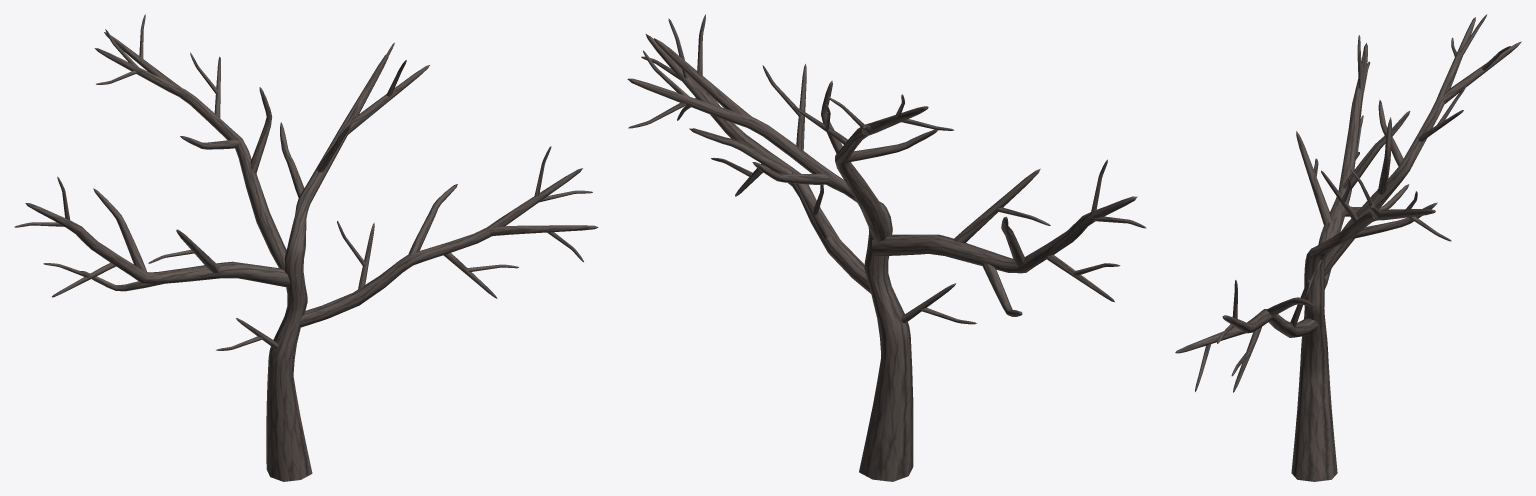
Rendered from DeadTree_8.glb.
3 renders of one model, left to right at view 1: azimuth 30°, elevation 25°; view 2: azimuth 150°, elevation 25°; view 3: azimuth 270°, elevation 25°, orthographic. The views are drawn at different scales.
Visible parts, largest first — view 1: DeadTree_8; view 2: DeadTree_8; view 3: DeadTree_8.
Boxes of the visible parts, x1,y1,x2,y2 form: DeadTree_8: (14,14,598,481); DeadTree_8: (627,14,1146,481); DeadTree_8: (1175,14,1521,481).
Size of the model in its own units: 8.17 by 6.28 by 4.8.
Materials: 1 (1 with a texture image).
